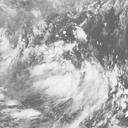cyclone: (25, 59, 109, 117)
